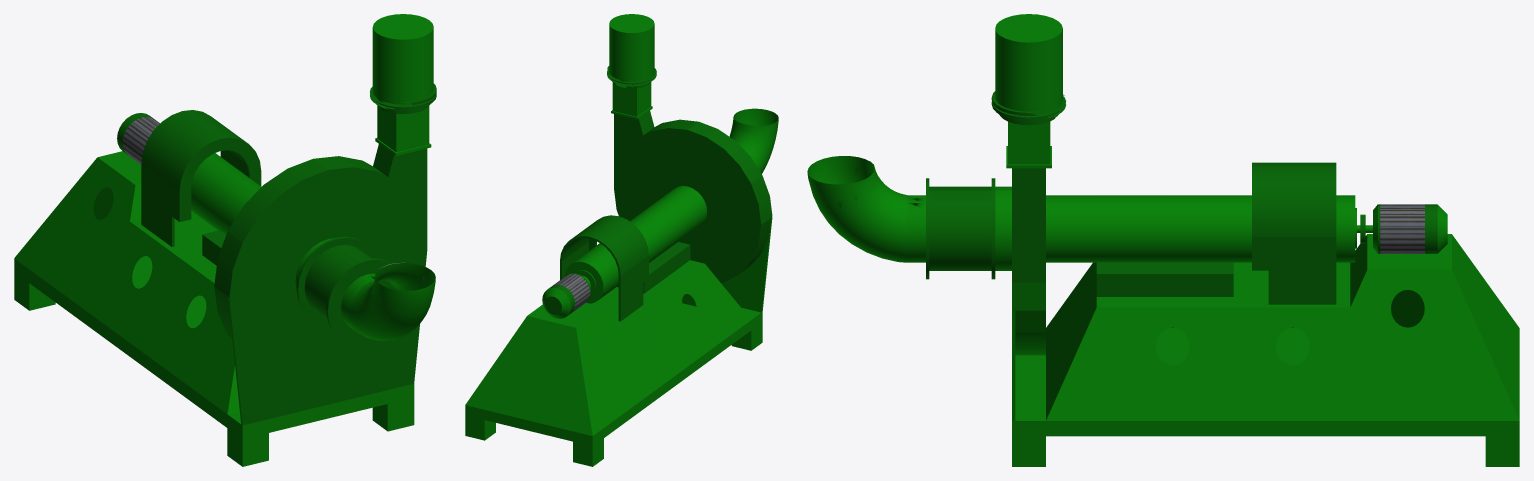
Rendered from 引风机.glb.
The picture shows the model from 3 angles, left to right: view 1: azimuth 30°, elevation 25°; view 2: azimuth 150°, elevation 25°; view 3: azimuth 270°, elevation 25°; orthographic projection. The views are drawn at different scales.
Parts seen in each view (by area): view 1: root; view 2: root; view 3: root.
Boxes of the visible parts, <box> form: root: <box>14,14,436,466</box>; root: <box>465,14,778,466</box>; root: <box>807,14,1519,466</box>.
Size of the model in its own units: 1.6 by 2.85 by 4.21.
4 materials, 2 textured.
